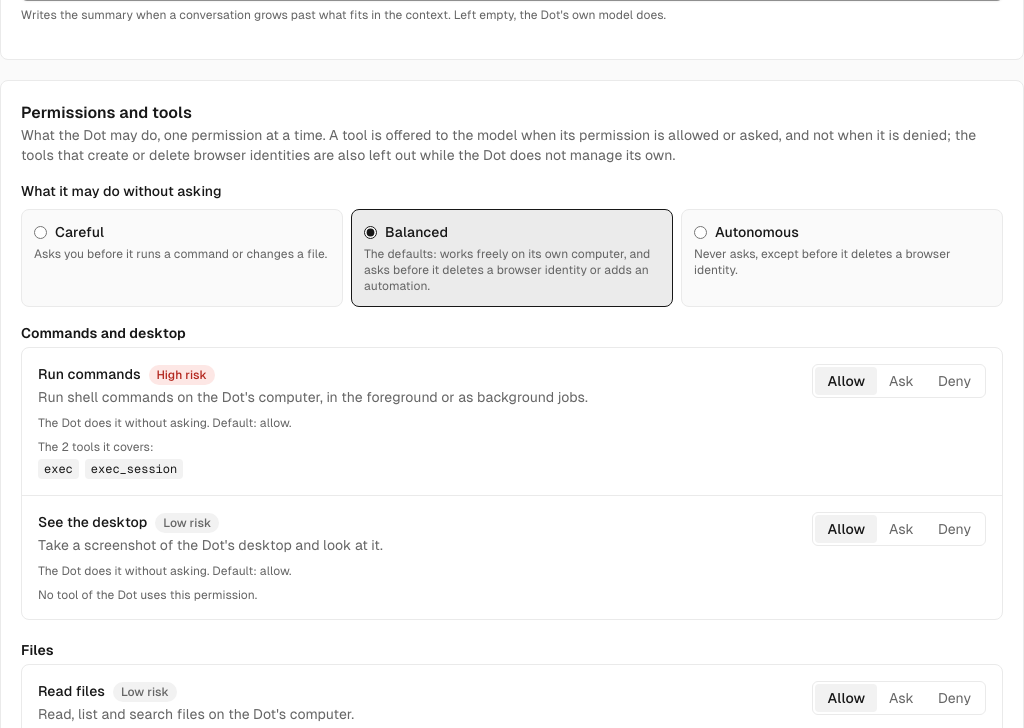
Test: the permission editor › marks a row that was changed and says what the new decision means
The width and height of the screenshot is (1024, 728).
(page scrolled)
Expected: the text "Changed" is not shown
Click the radio button labelled "Ask" in the row of "Run commands": (901, 381) [889,373,914,389]
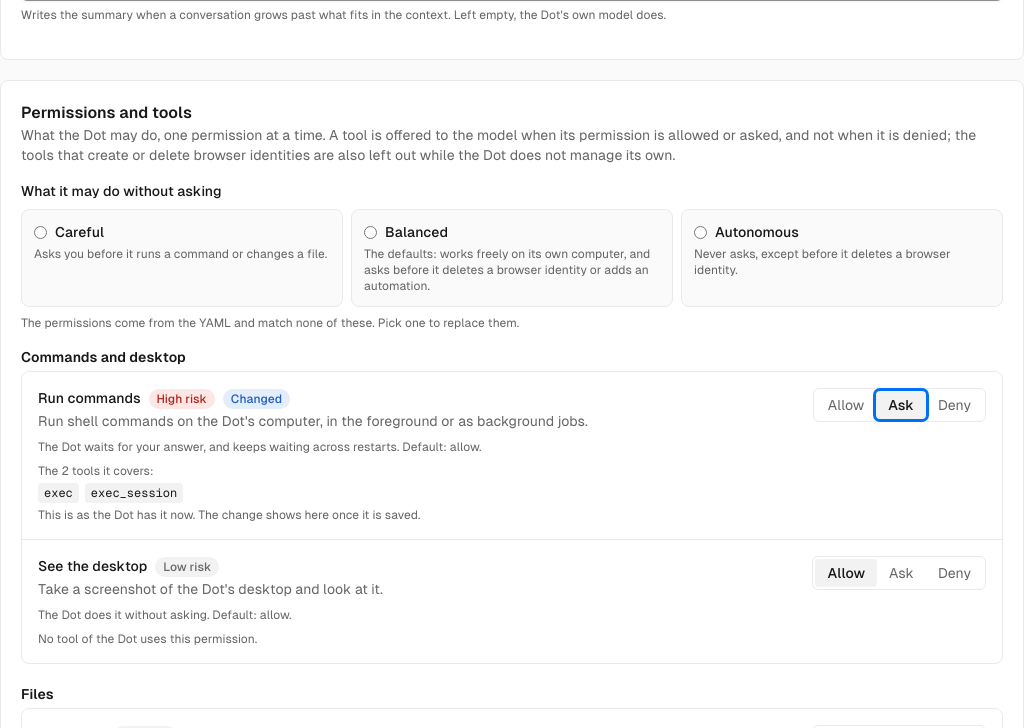
Expected: the text "Changed" is shown, [223,388,290,408]
Expected: the text "The Dot waits for your answer" is shown, [38,440,399,454]
Click the radio button labelled "Allow" in the row of "Changed": (846, 405) [828,397,864,413]
(page scrolled)
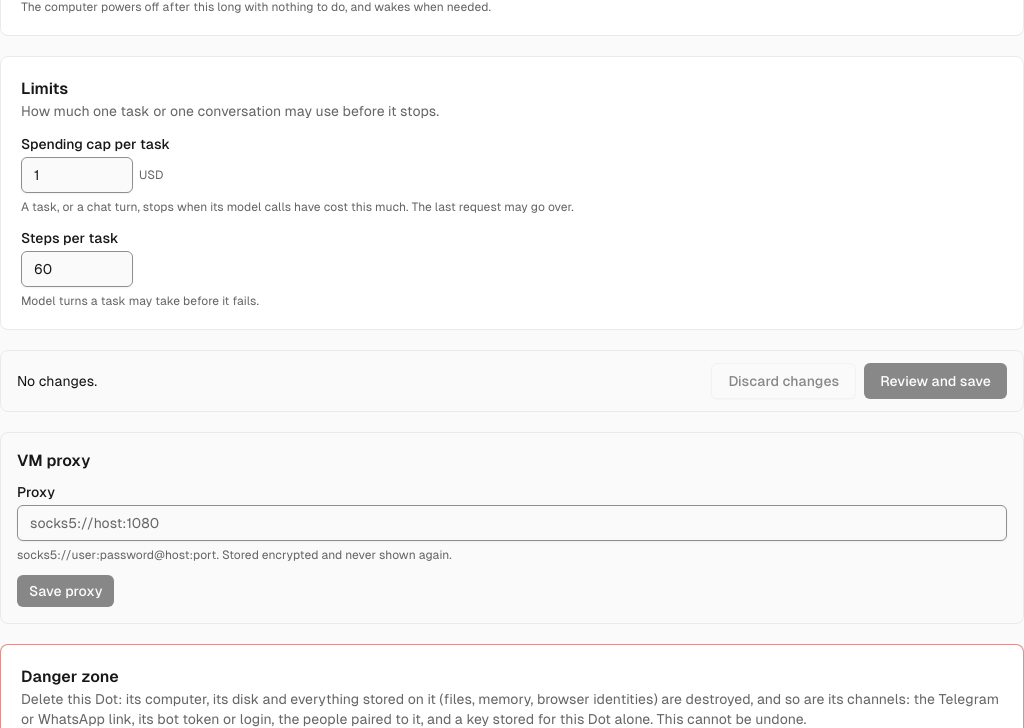
Expected: the text "Changed" is gone
Expected: the text "No changes." is shown, [17,371,97,391]
